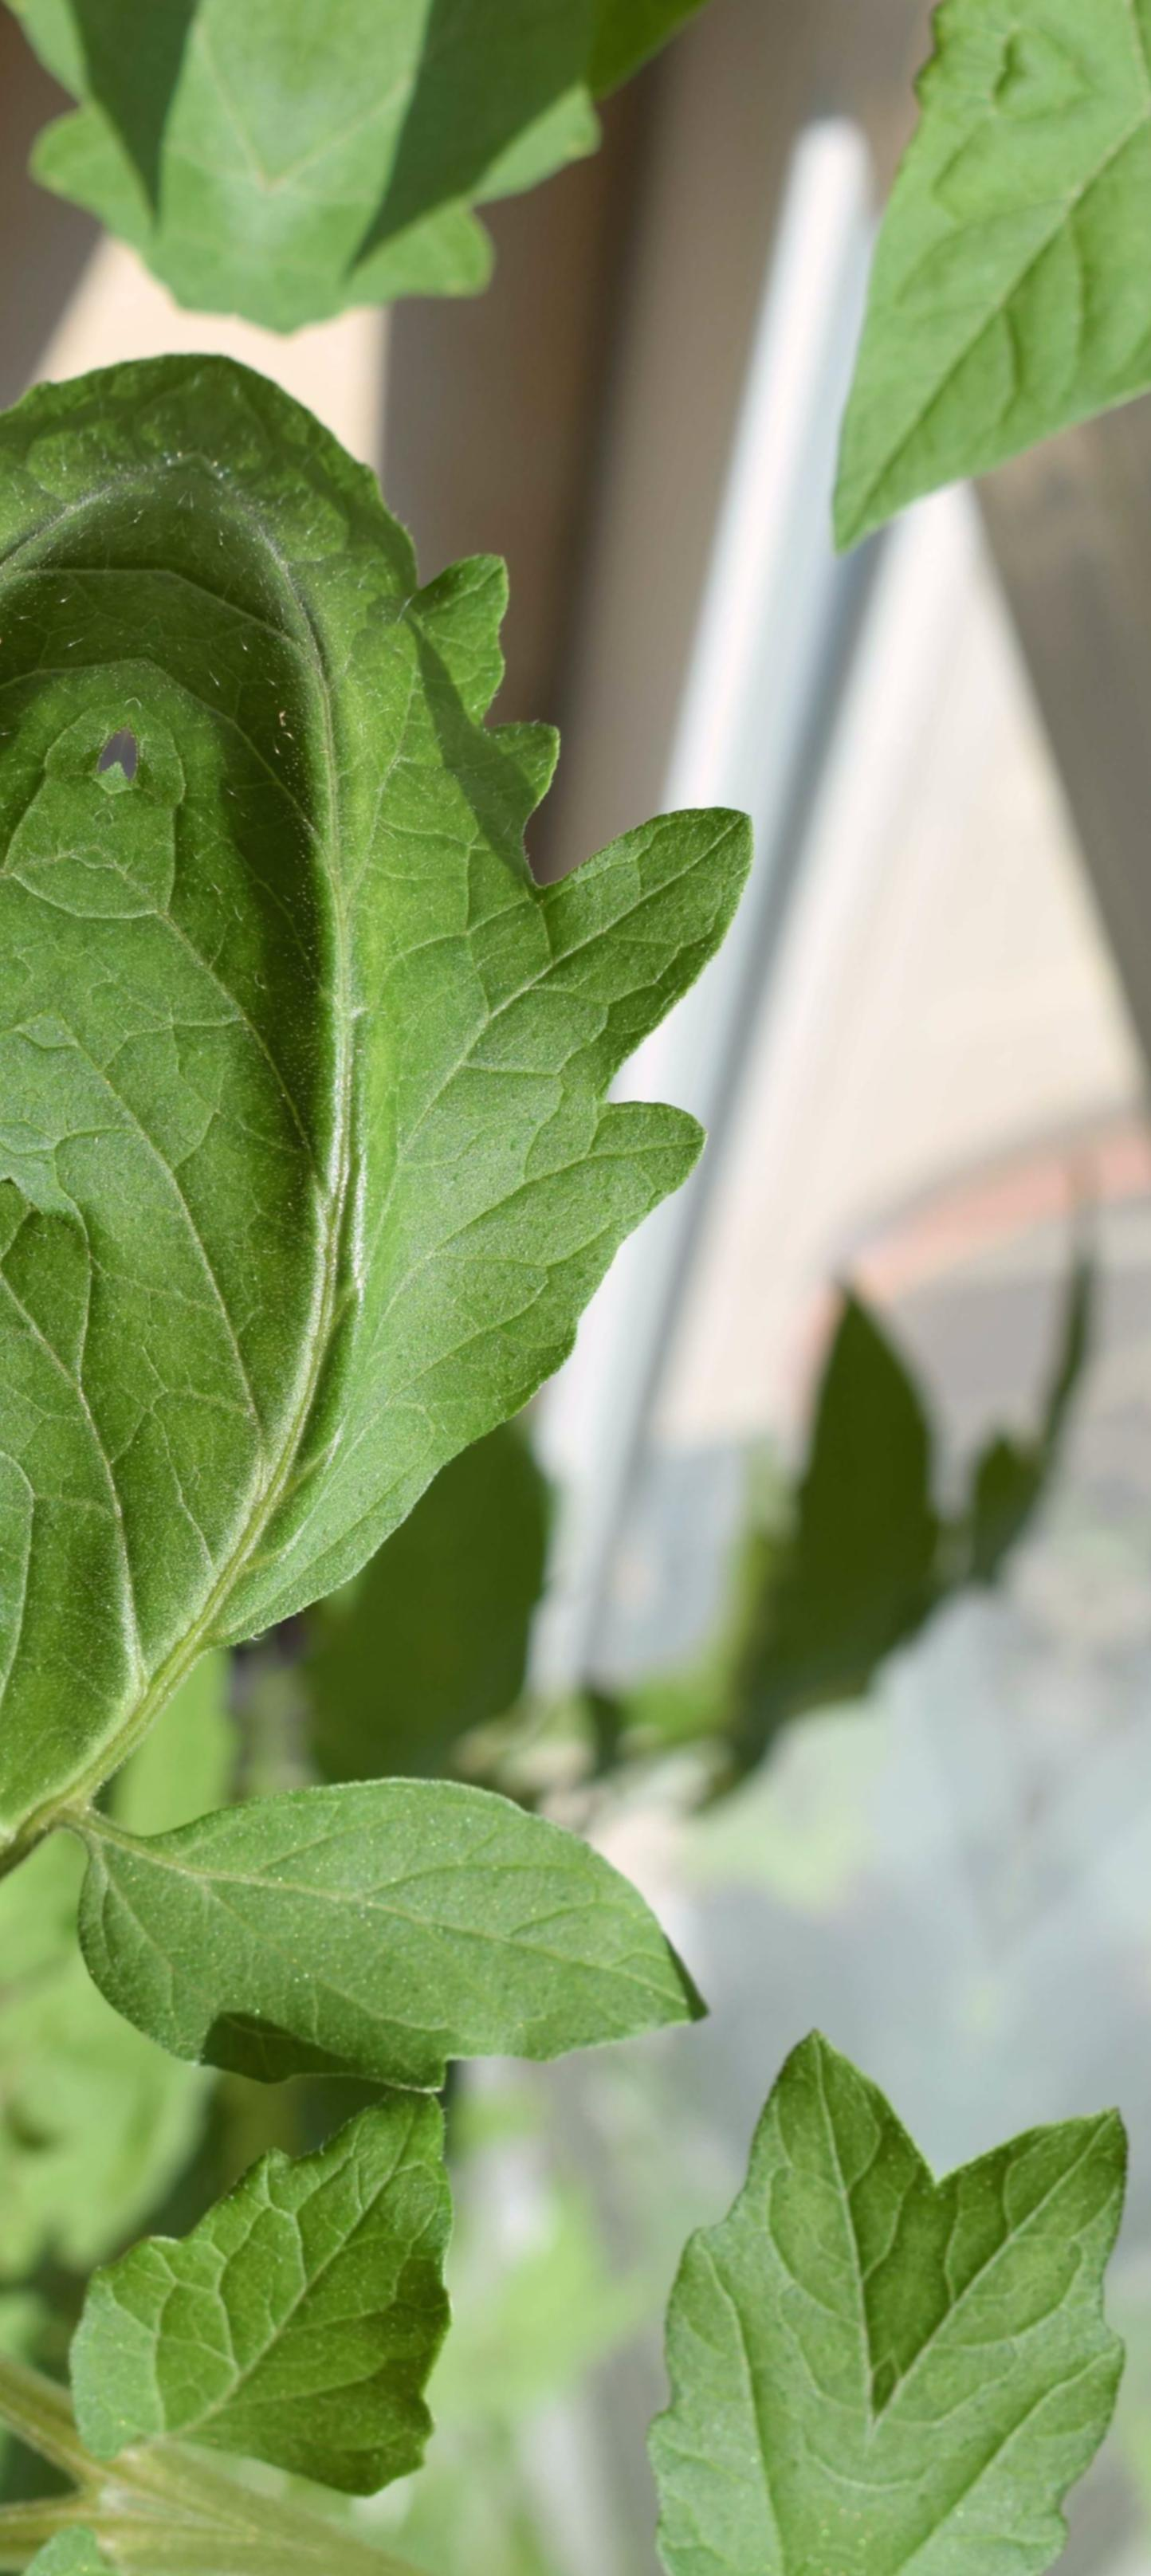Tomato leaf: (0, 352, 800, 2070), (0, 1641, 722, 2190), (0, 1958, 537, 2576), (539, 1896, 993, 2576)
